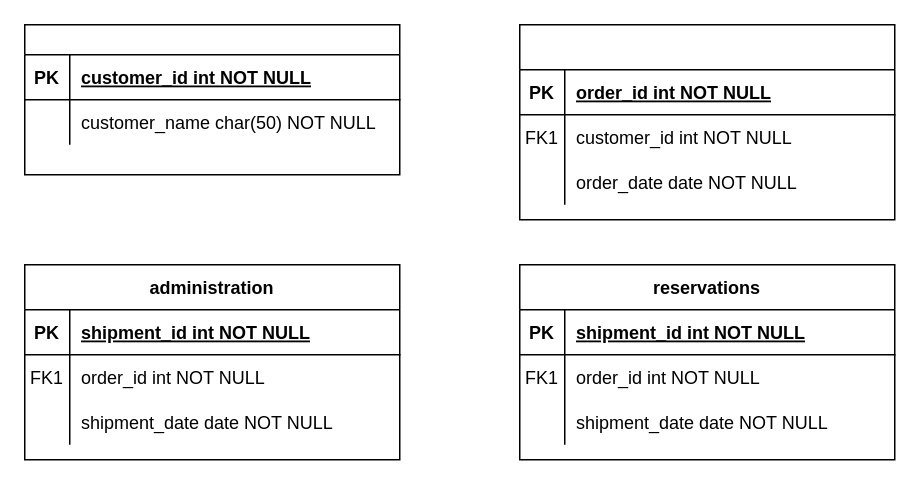
This 920x485 diagram has some shape labels left out. Here are the shapes that lost their labels. From the top down, the box of each, then its label:
(23, 23, 400, 175): user
(518, 23, 895, 220): books
